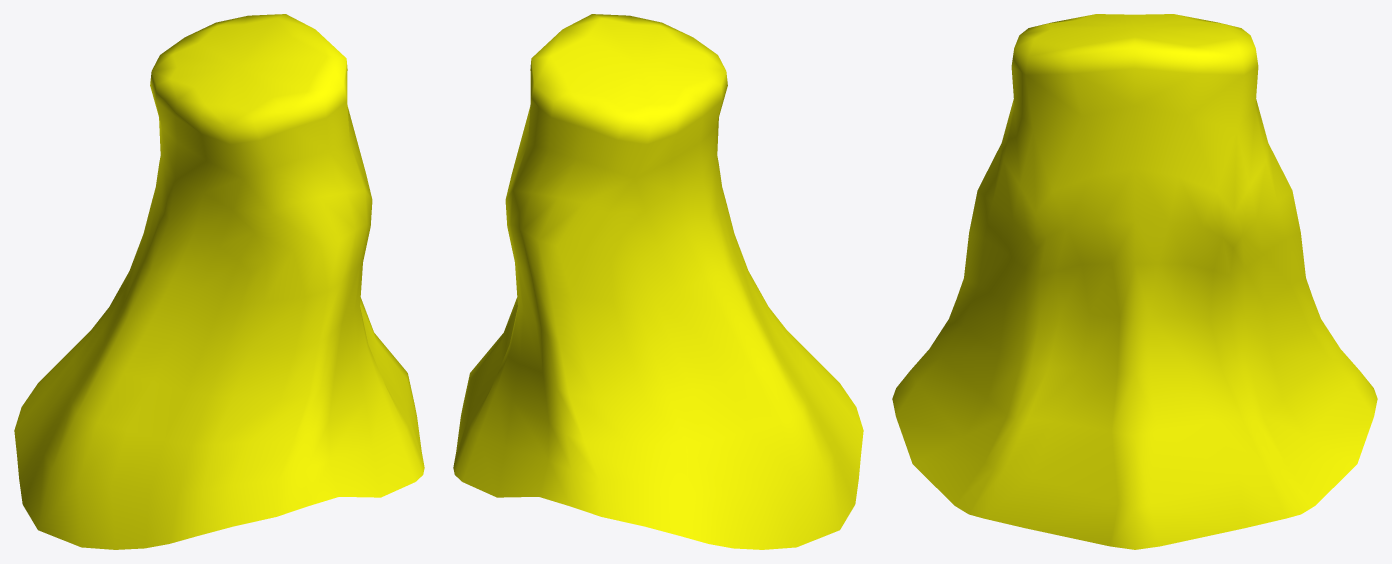
The model's file is HatredEnemyBody.fbx.
3 renders of one model, left to right at view 1: azimuth 30°, elevation 25°; view 2: azimuth 150°, elevation 25°; view 3: azimuth 270°, elevation 25°, orthographic. The views are drawn at different scales.
Parts seen in each view (by area): view 1: HatredBody; view 2: HatredBody; view 3: HatredBody.
Part boxes in pixels (left/top/right/bottom): HatredBody: left=14, top=14, right=424, bottom=549; HatredBody: left=453, top=14, right=863, bottom=549; HatredBody: left=892, top=14, right=1377, bottom=549.
Size of the model in its own units: 90.17 by 99.02 by 89.84.
